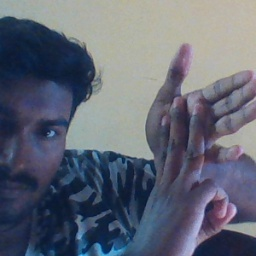M: (137, 43, 256, 235)
